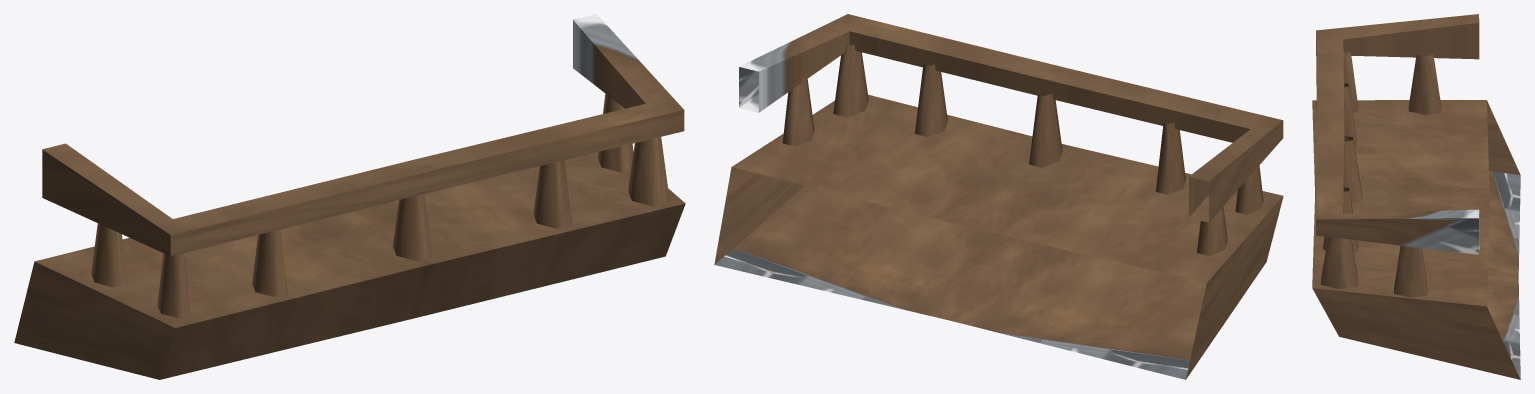
Rendered from A_HA_GEN_Ship_Balcony_01.fbx.
3 views of the same model, side by side, from view 1: azimuth 30°, elevation 25°; view 2: azimuth 150°, elevation 25°; view 3: azimuth 270°, elevation 25° (orthographic). The views are drawn at different scales.
Parts seen in each view (by area): view 1: A_HA_Gen_Ship_Balcony_01; view 2: A_HA_Gen_Ship_Balcony_01; view 3: A_HA_Gen_Ship_Balcony_01.
Boxes of the visible parts, x1,y1,x2,y2 form: A_HA_Gen_Ship_Balcony_01: (14, 14, 685, 379); A_HA_Gen_Ship_Balcony_01: (714, 14, 1283, 379); A_HA_Gen_Ship_Balcony_01: (1312, 14, 1520, 379).
Bounding box in the file's own units: 565 × 206 × 241.
Materials: 1 (1 with a texture image).
